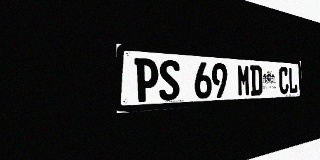6: (194, 61, 212, 99)
9: (212, 63, 227, 98)
C: (279, 67, 288, 94)
D: (250, 65, 262, 96)
L: (288, 67, 297, 94)
M: (237, 64, 250, 97)
P: (134, 58, 158, 102)
S: (159, 59, 180, 101)
